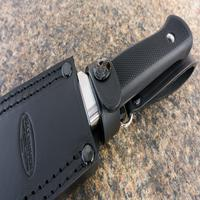knife: (9, 16, 193, 141)
